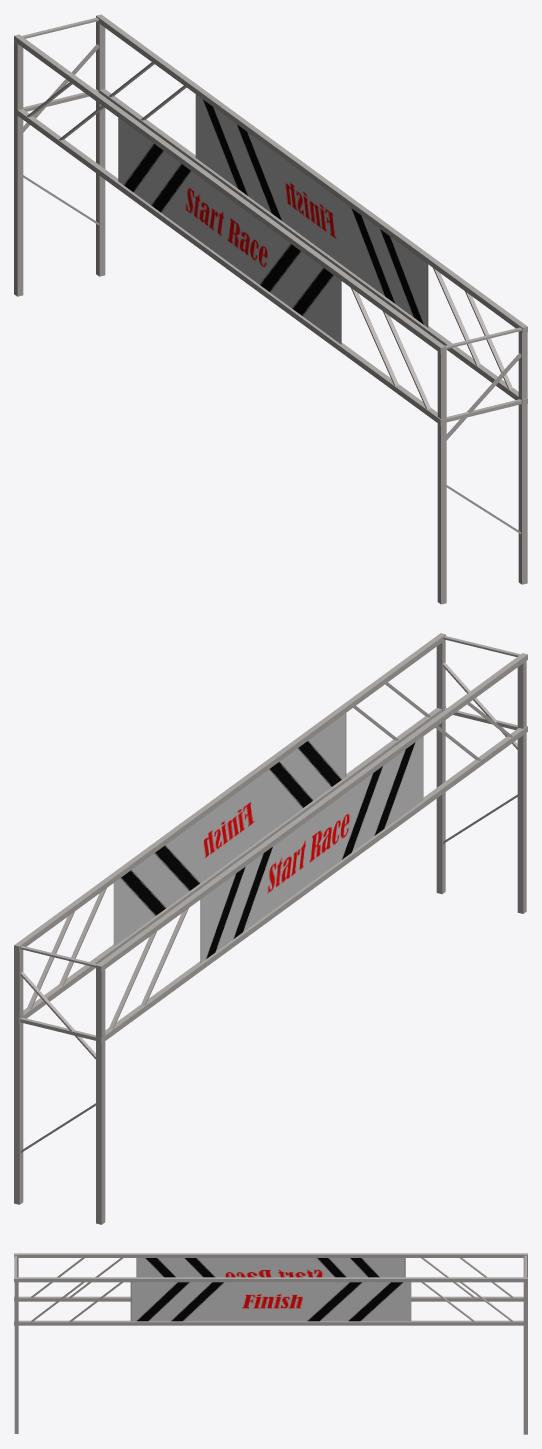
Rendered from race_drag_start_and_finish_line.glb.
3 renders of one model, top to bottom at view 1: azimuth 30°, elevation 25°; view 2: azimuth 150°, elevation 25°; view 3: azimuth 270°, elevation 25°, orthographic. The views are drawn at different scales.
Parts seen in each view (by area): view 1: Plane.001; view 2: Plane.001; view 3: Plane.001.
Part boxes in pixels (<box>): Plane.001: <box>14,14,527,604</box>; Plane.001: <box>14,633,527,1224</box>; Plane.001: <box>14,1253,527,1434</box>.
Size of the model in its own units: 2.83 by 7.95 by 23.8.
Materials: 3 (2 with a texture image).
